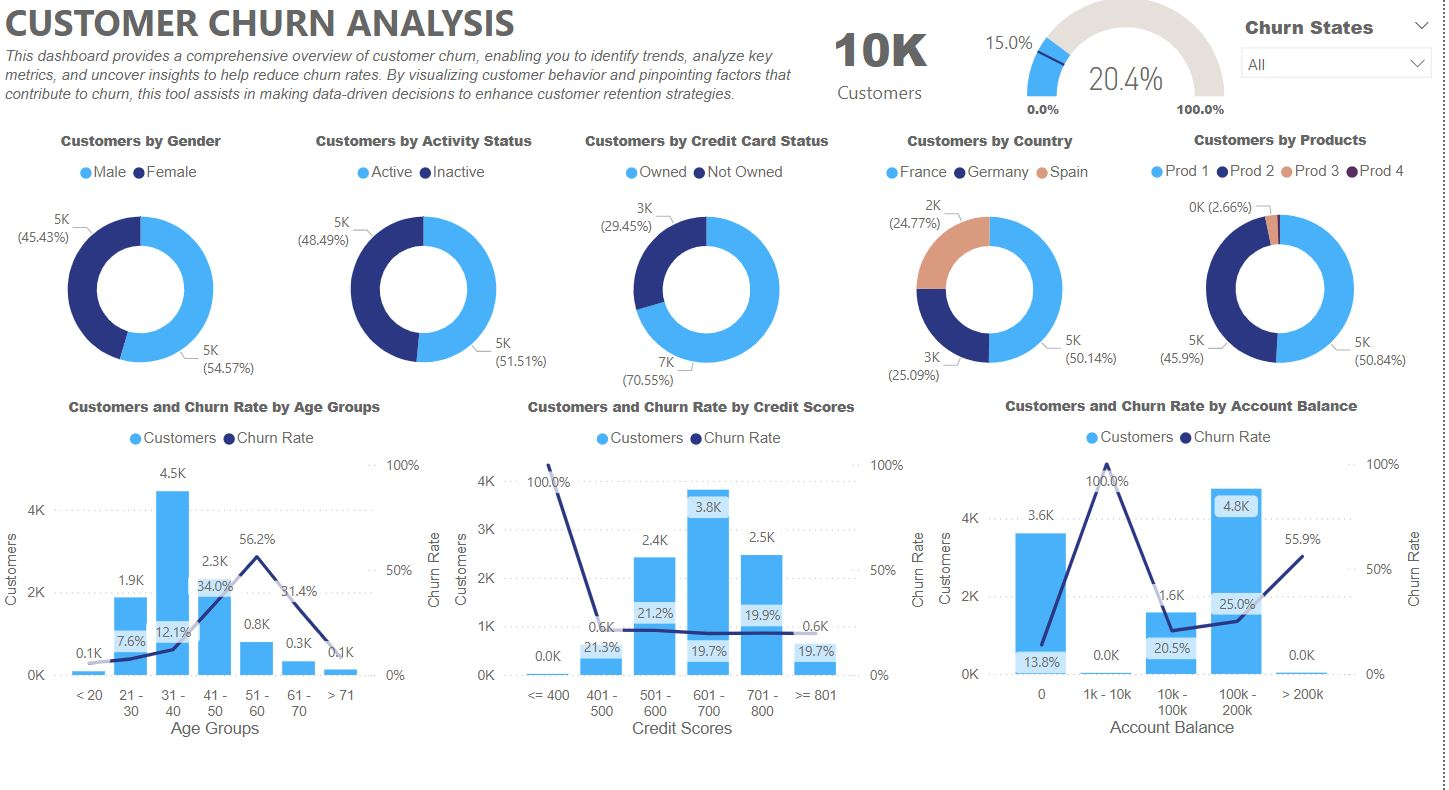

Layout of this report page (visuals, bound fields, positions):
{"tool":"powerbi","page":{"name":"Page 1","canvas":[1280,720],"ordinal":0},"visuals":[{"type":"card","fields":{"Values":["Customer_Data.Customers"]},"box":[697.8,0,165.8,124.1],"z":0},{"type":"donutChart","fields":{"Category":["Customer_Data.Gender"],"Y":["Customer_Data.Customers"]},"box":[0,124.5,250.9,235.4],"z":1000},{"type":"donutChart","fields":{"Y":["Customer_Data.Customers"],"Category":["Customer_Data.Activity Status"]},"box":[250.9,124.5,250.9,235.4],"z":2000},{"type":"donutChart","fields":{"Y":["Customer_Data.Customers"],"Category":["Customer_Data.Credit Card Status"]},"box":[501.9,124.1,250.9,235.9],"z":3000},{"type":"donutChart","fields":{"Y":["Customer_Data.Customers"],"Category":["Customer_Data.Country"]},"box":[752.8,124.1,250.9,235.9],"z":4000},{"type":"donutChart","fields":{"Y":["Customer_Data.Customers"],"Category":["Customer_Data.Products"]},"box":[1003.7,123.3,264.2,235.9],"z":5000},{"type":"lineClusteredColumnComboChart","fields":{"Y":["Customer_Data.Customers"],"Category":["Age Groups.Age Groups"],"Y2":["Customer_Data.Churn Rate"]},"box":[0,360,399,306.8],"z":6000},{"type":"lineClusteredColumnComboChart","fields":{"Y":["Customer_Data.Customers"],"Y2":["Customer_Data.Churn Rate"],"Category":["Credit Score Groups.Credit Scores"]},"box":[399,360,429.2,306.8],"z":7000},{"type":"lineClusteredColumnComboChart","fields":{"Y":["Customer_Data.Customers"],"Y2":["Customer_Data.Churn Rate"],"Category":["Account Balance Groups.Account Balance"]},"box":[828.2,359.1,439.8,306.8],"z":8000},{"type":"slicer","fields":{"Values":["Customer_Data.Churn States"]},"box":[1091.5,0,188.9,125],"z":9000},{"type":"gauge","fields":{"Y":["Customer_Data.Churn Rate"],"MinValue":["Min(Customer_Data.Min Churn Rate)"],"MaxValue":["Max(Customer_Data.Max Churn Rate)"],"TargetValue":["Min(Customer_Data.Target Churn Rate)"]},"box":[863.6,0,227.9,124.1],"z":10000},{"type":"textbox","box":[0,0,720,105.5],"z":11000}]}

Visuals, with their boxes on the page's 1280x720 design canvas (x1, y1, x2, y2). These are canvas units, not pixel positions in the 1449x790 screenshot, which may show the page scaled, cropped or inside an application window:
card - Customer_Data.Customers: [698,0,864,124]
donutChart - Customer_Data.Gender x Customer_Data.Customers: [0,124,251,360]
donutChart - Customer_Data.Customers x Customer_Data.Activity Status: [251,124,502,360]
donutChart - Customer_Data.Customers x Customer_Data.Credit Card Status: [502,124,753,360]
donutChart - Customer_Data.Customers x Customer_Data.Country: [753,124,1004,360]
donutChart - Customer_Data.Customers x Customer_Data.Products: [1004,123,1268,359]
lineClusteredColumnComboChart - Customer_Data.Customers x Age Groups.Age Groups: [0,360,399,667]
lineClusteredColumnComboChart - Customer_Data.Customers x Customer_Data.Churn Rate: [399,360,828,667]
lineClusteredColumnComboChart - Customer_Data.Customers x Customer_Data.Churn Rate: [828,359,1268,666]
slicer - Customer_Data.Churn States: [1092,0,1280,125]
gauge - Customer_Data.Churn Rate x Min(Customer_Data.Min Churn Rate): [864,0,1092,124]
textbox: [0,0,720,106]
